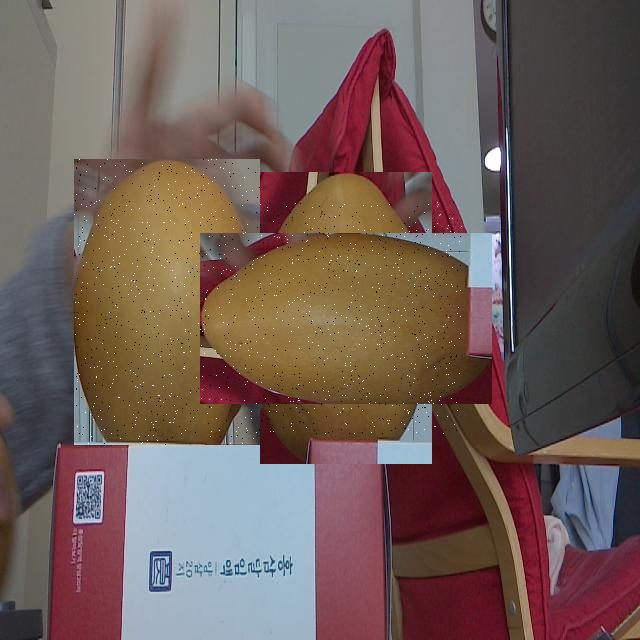pear: (230, 202, 462, 434), (74, 159, 260, 445)
